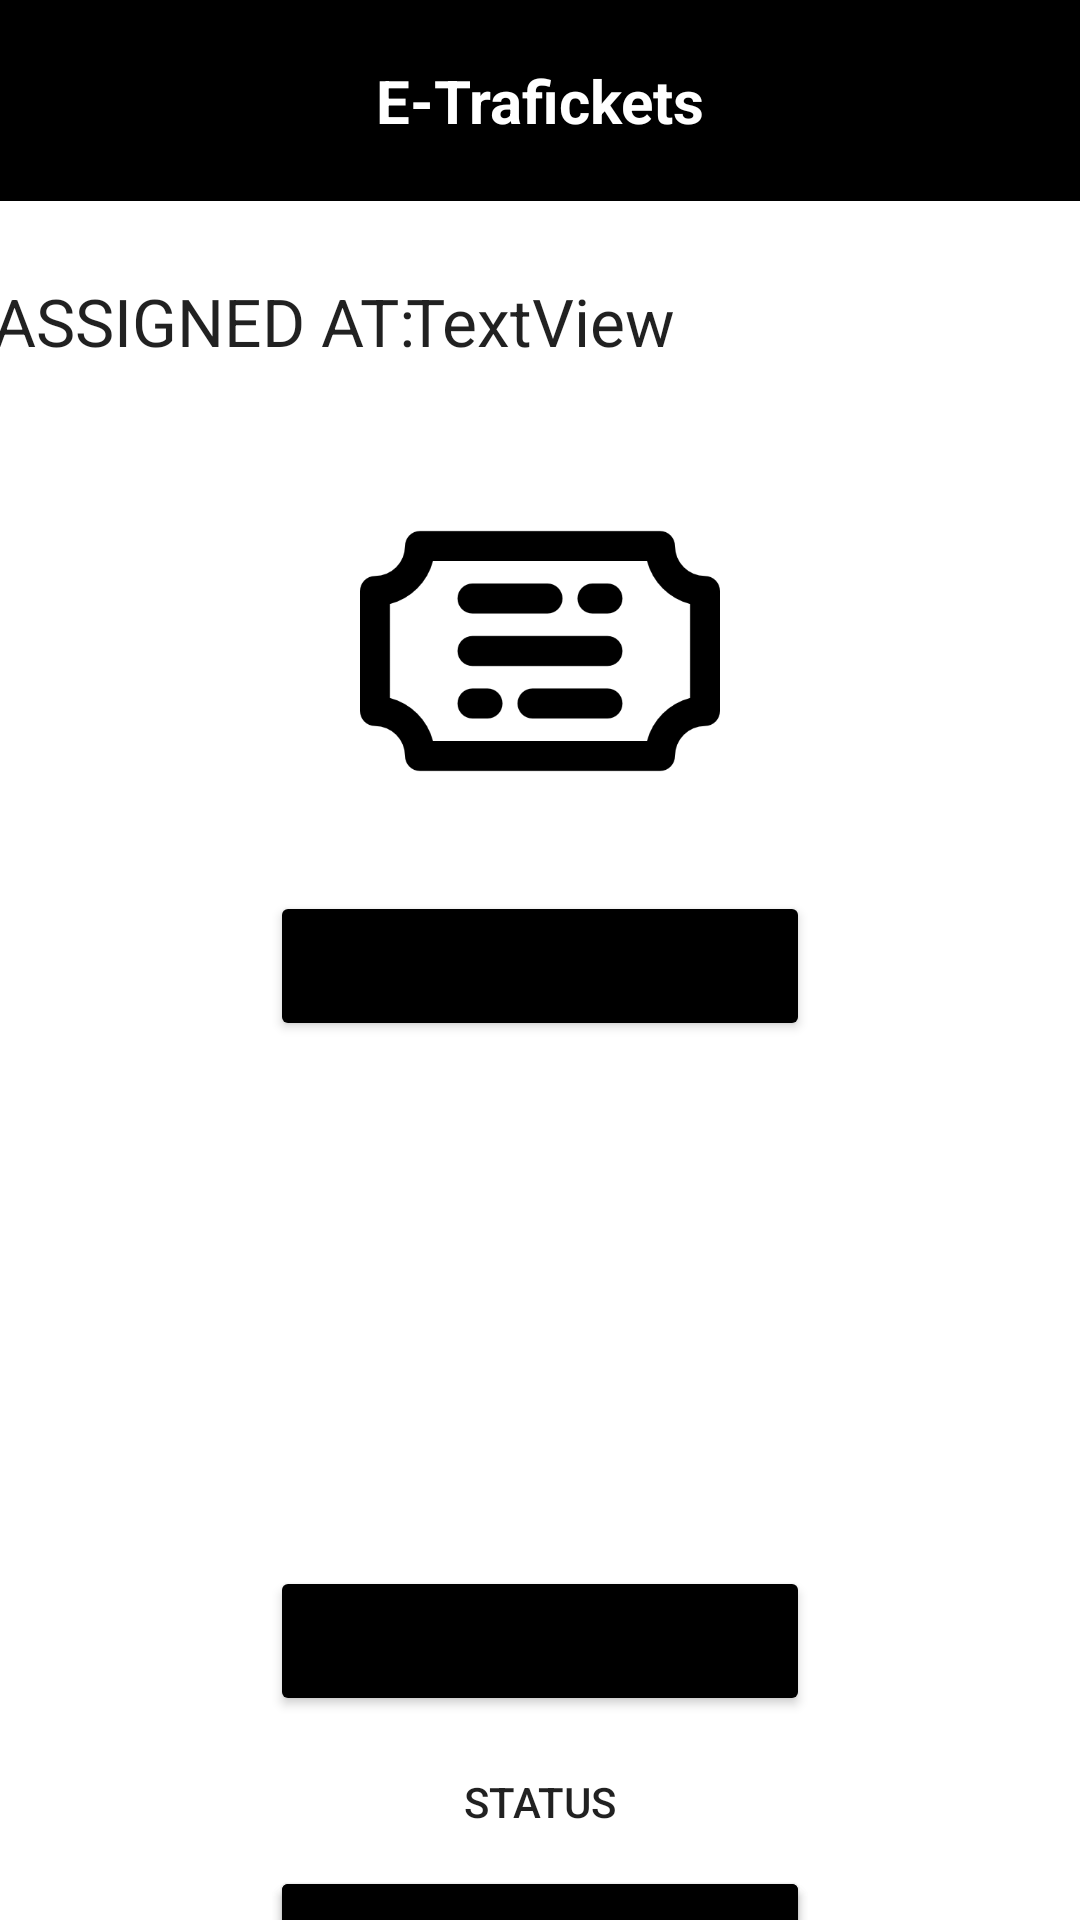

Icons on this 1080px x 1920px Android screen, each with its box as {"x1": x1, "y1": y1, "x2": x2, "y2": y2}:
issueviolation: {"x1": 360, "y1": 531, "x2": 720, "y2": 771}
